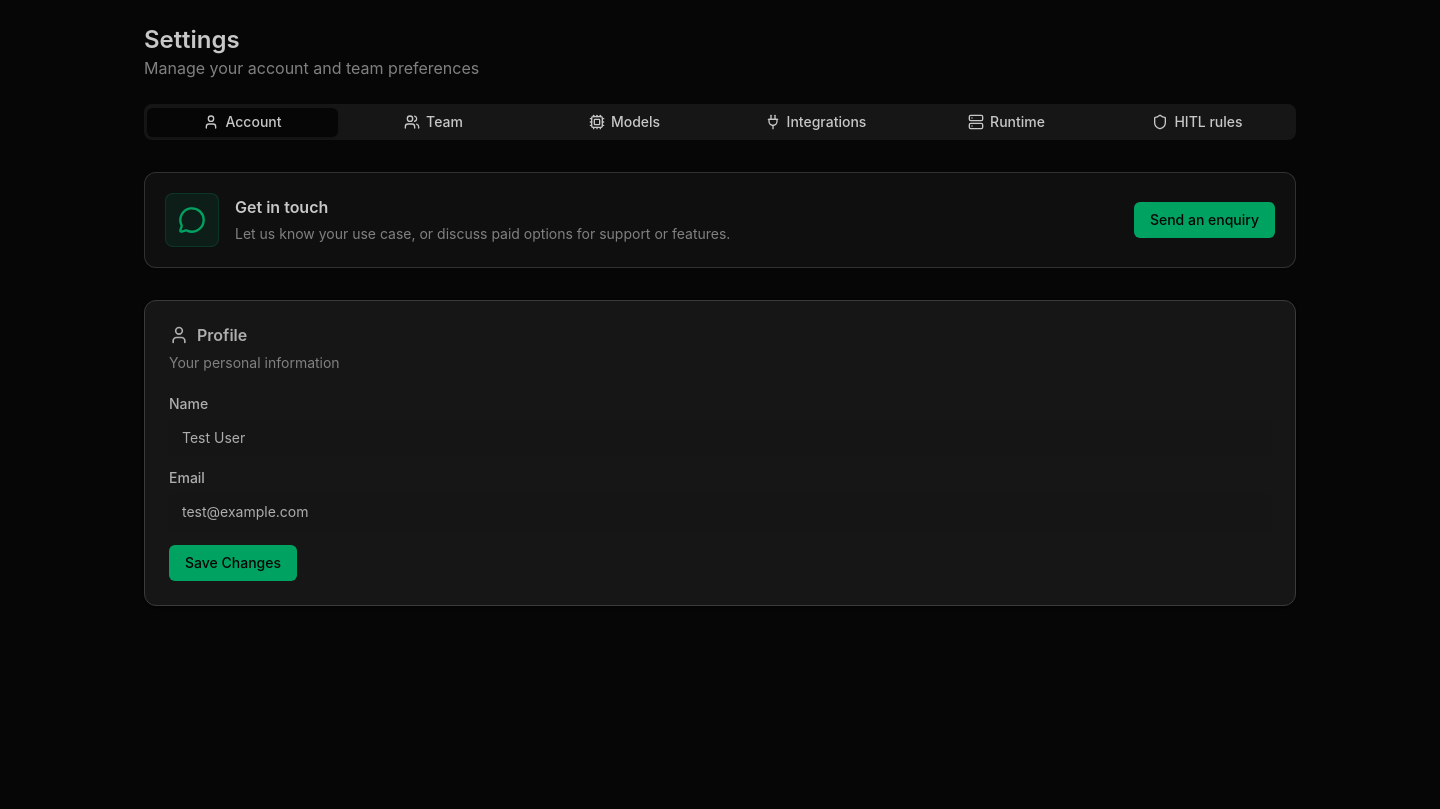
SettingsView › shows Invite Member button when user is owner
The width and height of the screenshot is (1440, 809).
Click the tab "Team" at point(434, 122), box [338,108,529,136]
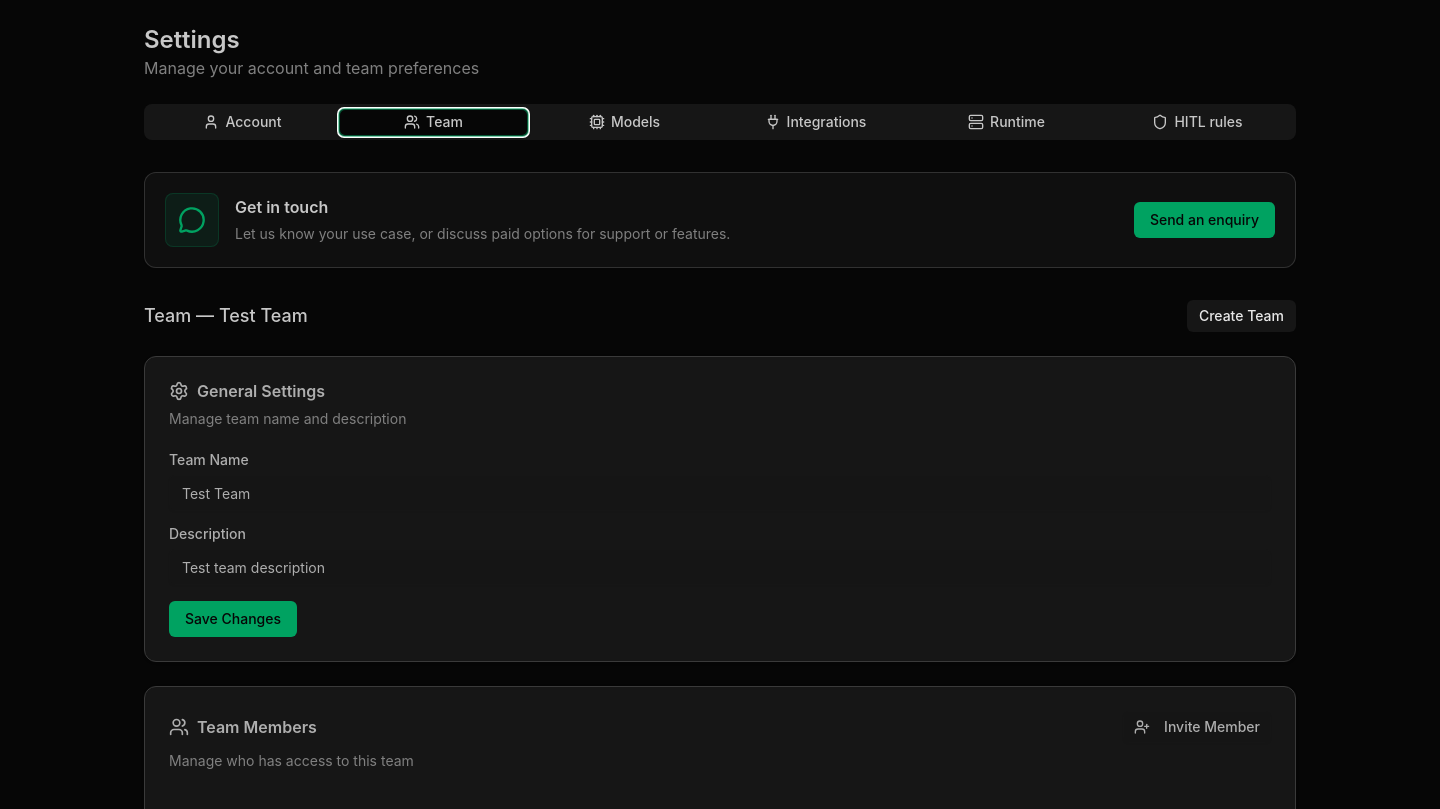
Expected: the button "Invite Member" is shown, [1123,711,1271,743]
